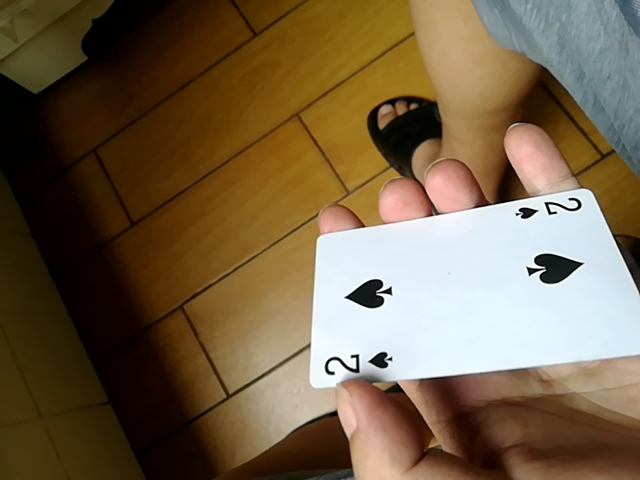ht 2: (311, 183, 638, 391)
